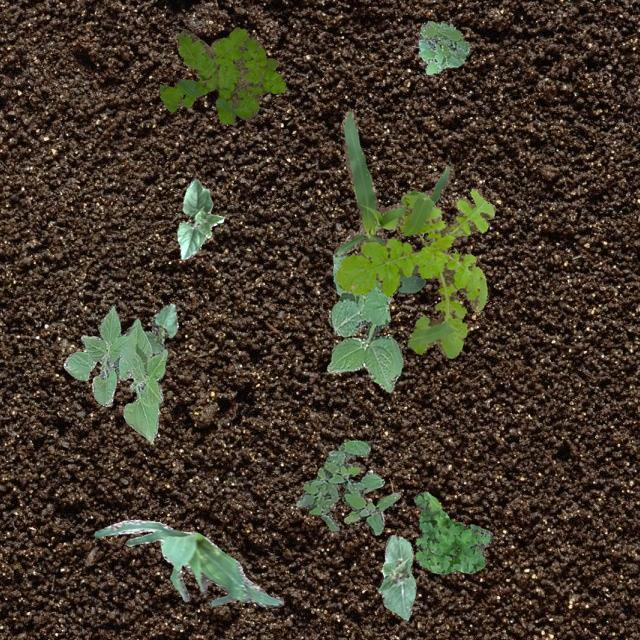crop: (332, 110, 453, 274), (92, 518, 282, 606), (62, 304, 166, 442), (176, 178, 222, 258), (378, 534, 416, 620), (144, 302, 178, 352), (396, 274, 424, 294)
weed: (336, 188, 494, 358), (158, 27, 286, 122), (326, 253, 402, 392), (296, 439, 400, 534), (412, 491, 492, 574), (416, 20, 468, 74)
